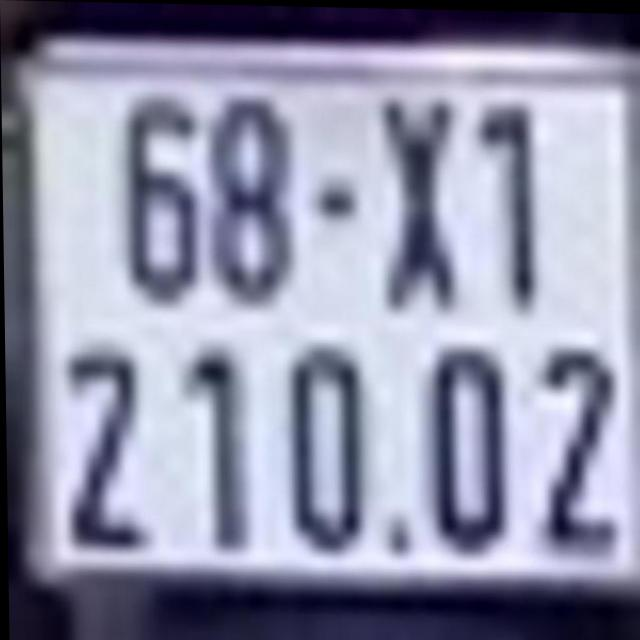0: (415, 330, 510, 544), (276, 333, 366, 547)
1: (475, 94, 548, 303), (184, 343, 247, 547)
2: (521, 337, 631, 542), (63, 340, 145, 553)
6: (119, 82, 202, 304)
8: (204, 88, 297, 307)
X: (374, 87, 460, 304)
